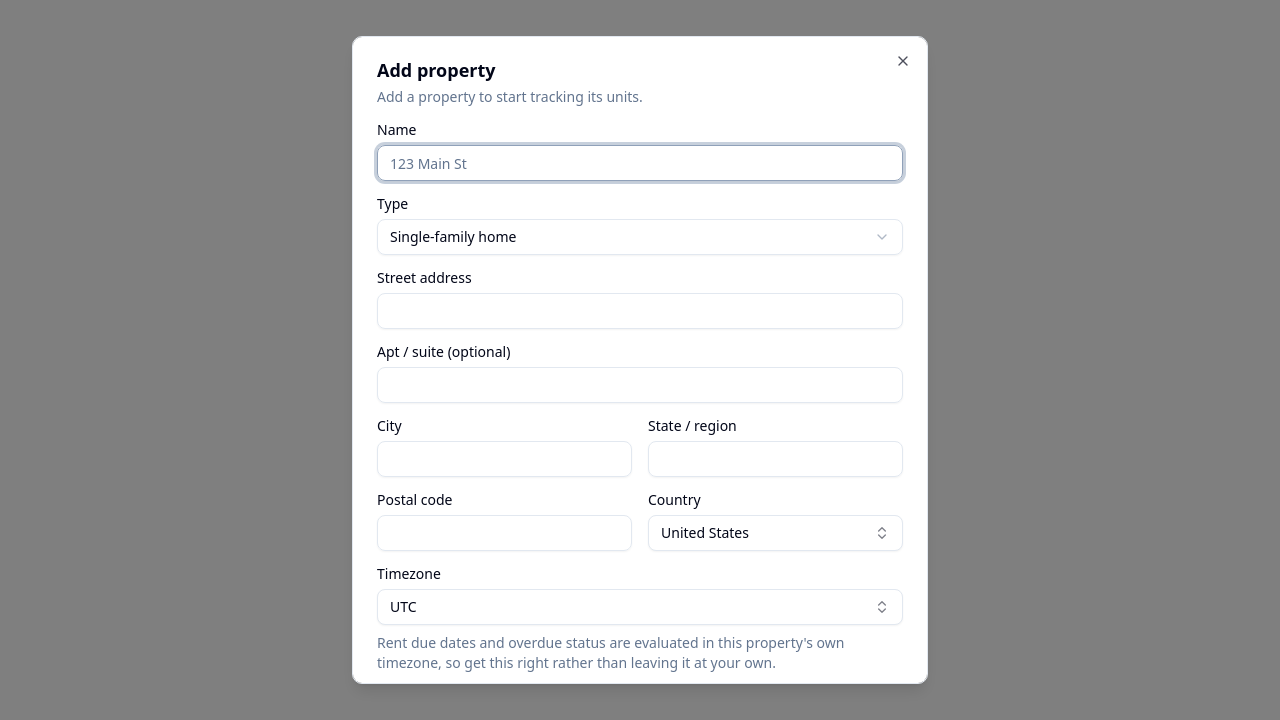
PropertyFormDialog › finds the India timezone when searching its modern name, "Kolkata"
Click the dropdown named "timezone": x=403, y=606 [377,589,903,625]
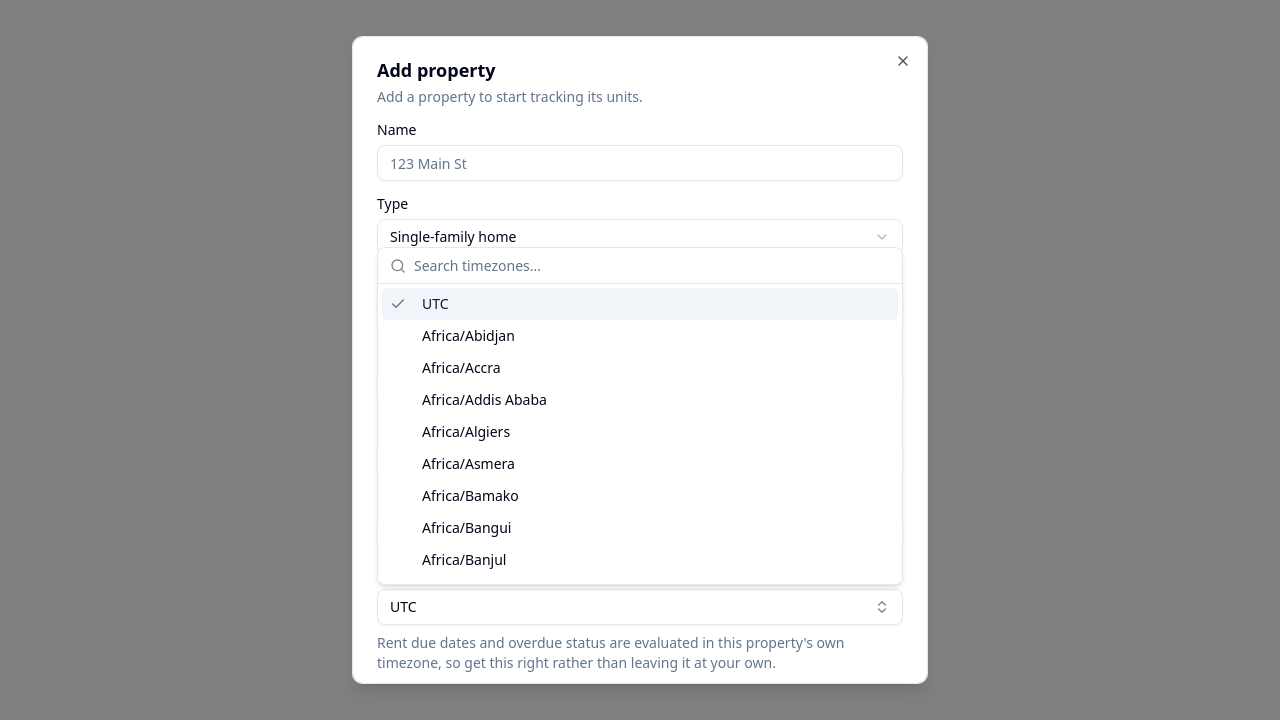
In the dropdown with placeholder "Search timezones…": x=652, y=266 [414,246,890,286], type "Kolkata"
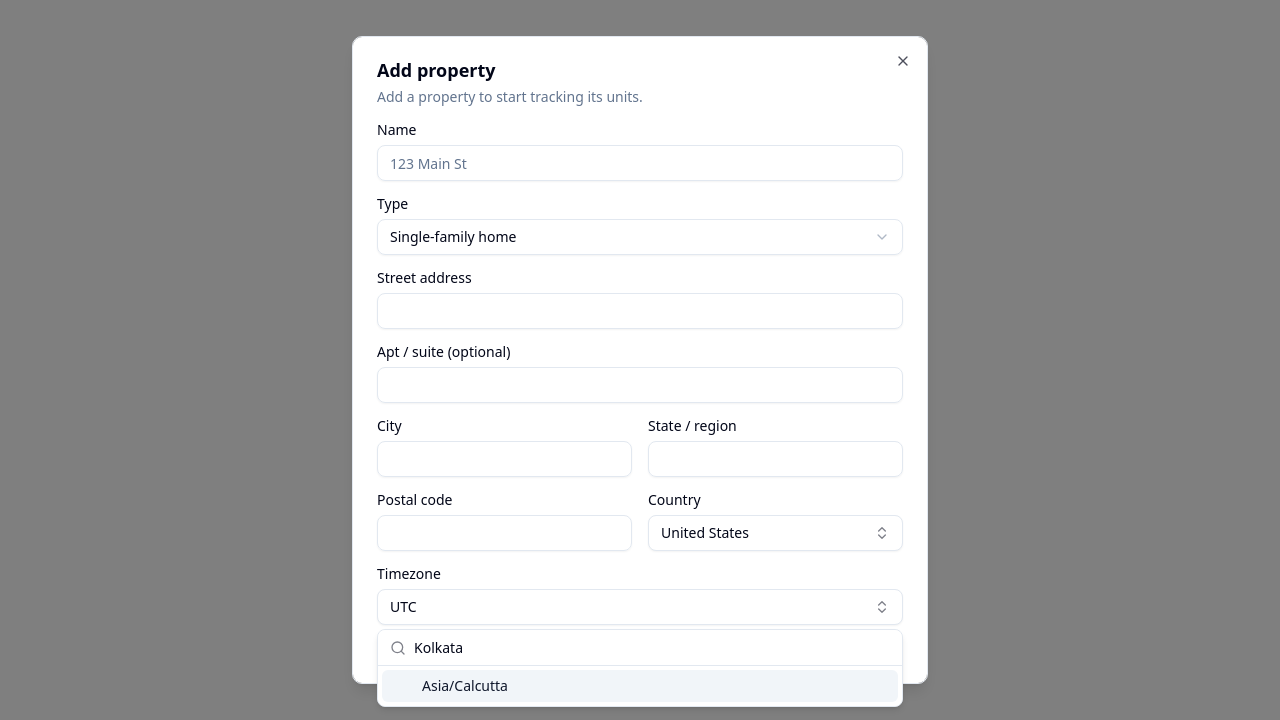
Click the option "Asia/Calcutta": x=465, y=686 [382,670,898,702]
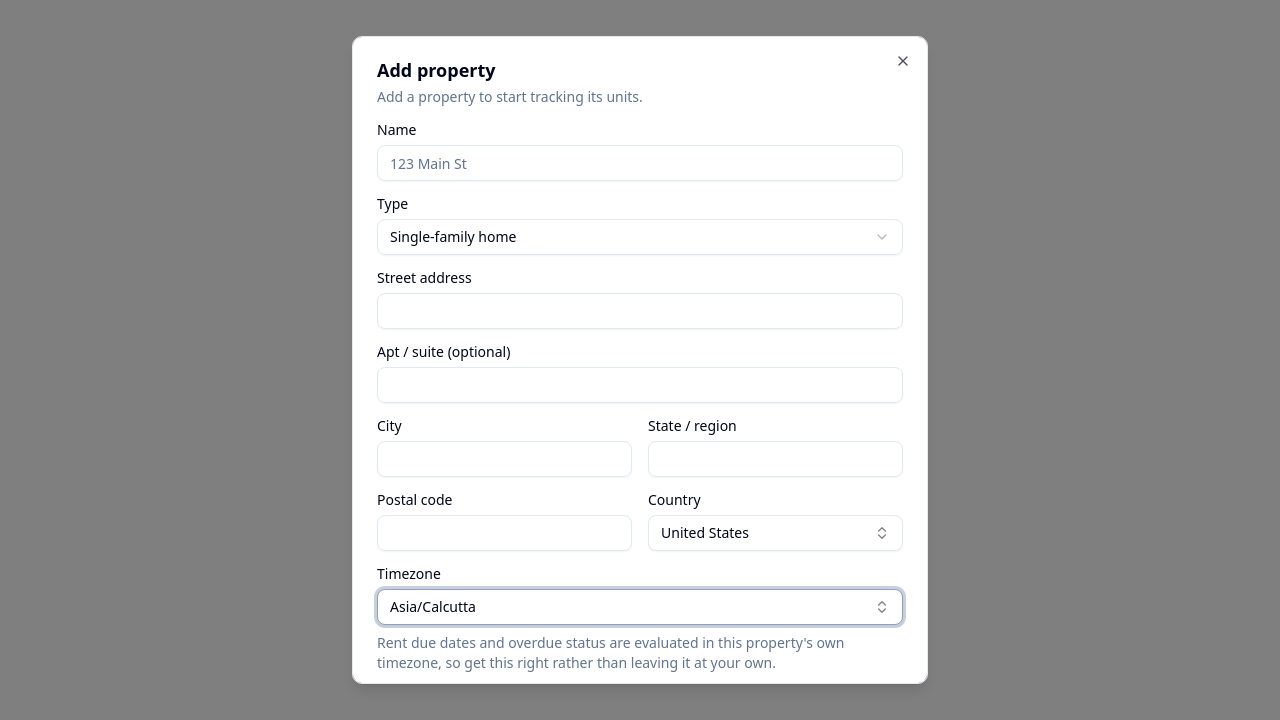
Now the dropdown named "timezone" reads "Asia/Calcutta", box [377,589,903,625]
